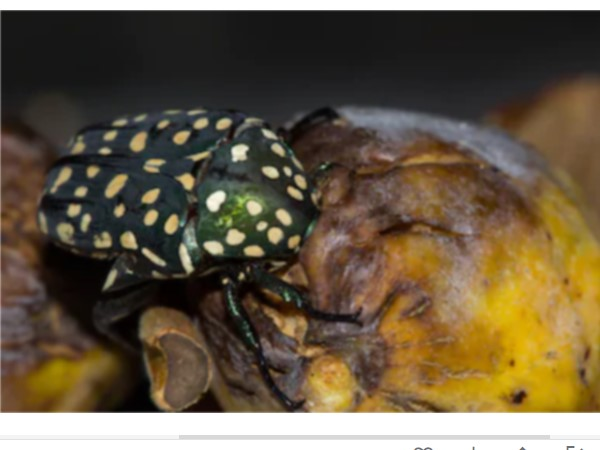Protaetia_niveoguttata: (33, 91, 369, 400)
